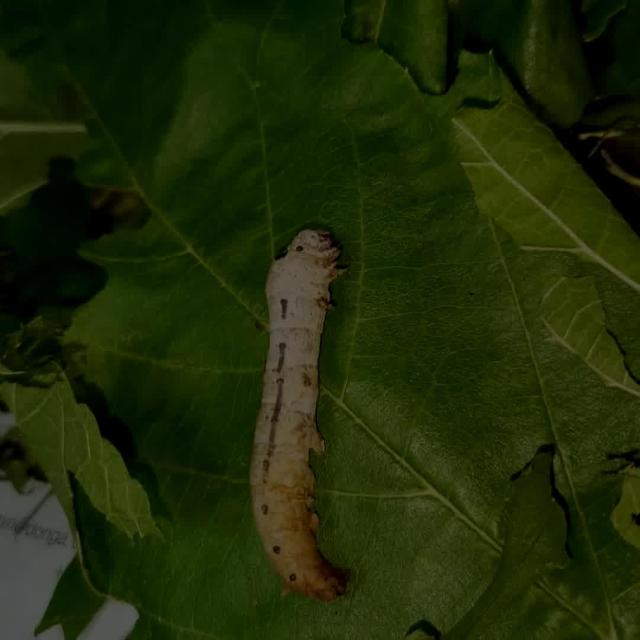Grasserie: (227, 200, 413, 616)
